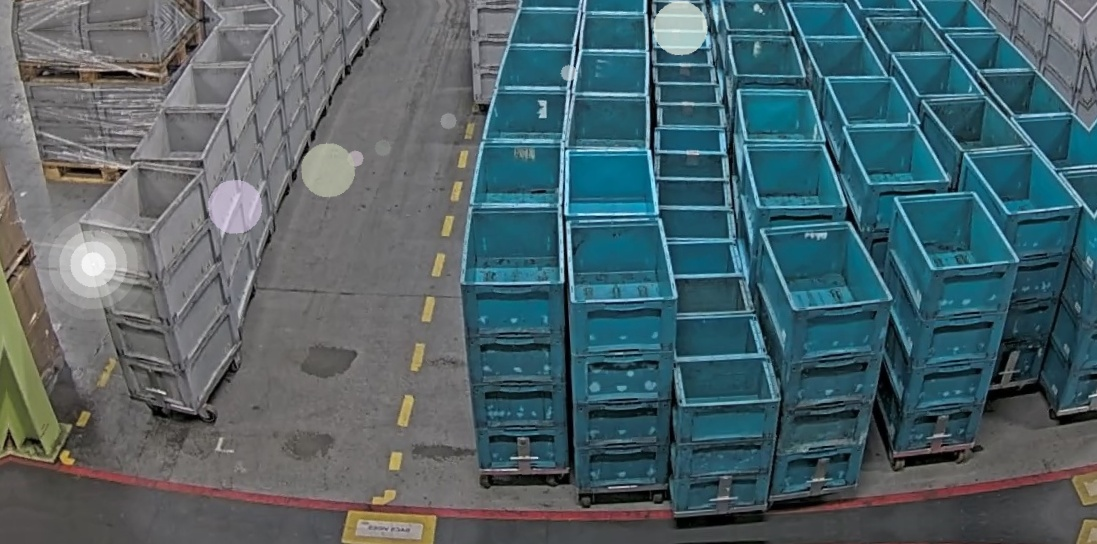4G: (77, 159, 247, 417)
B4: (864, 188, 1028, 456), (752, 219, 904, 497), (562, 214, 689, 494), (955, 144, 1093, 395), (456, 200, 579, 479)
B8: (662, 311, 786, 513)
